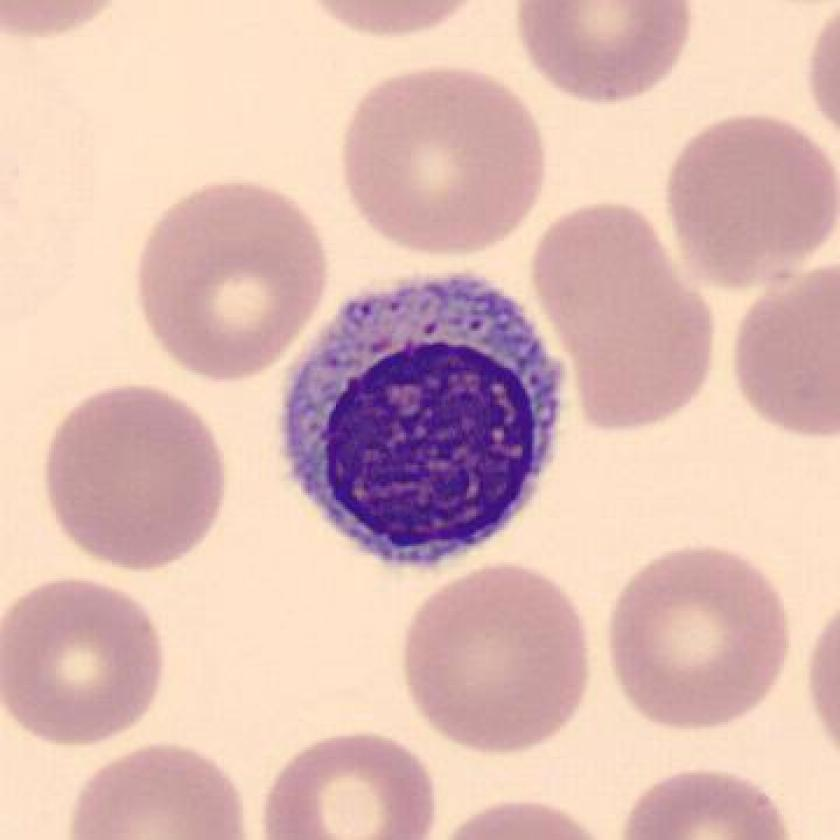lymphocyte: (269, 265, 587, 586)
